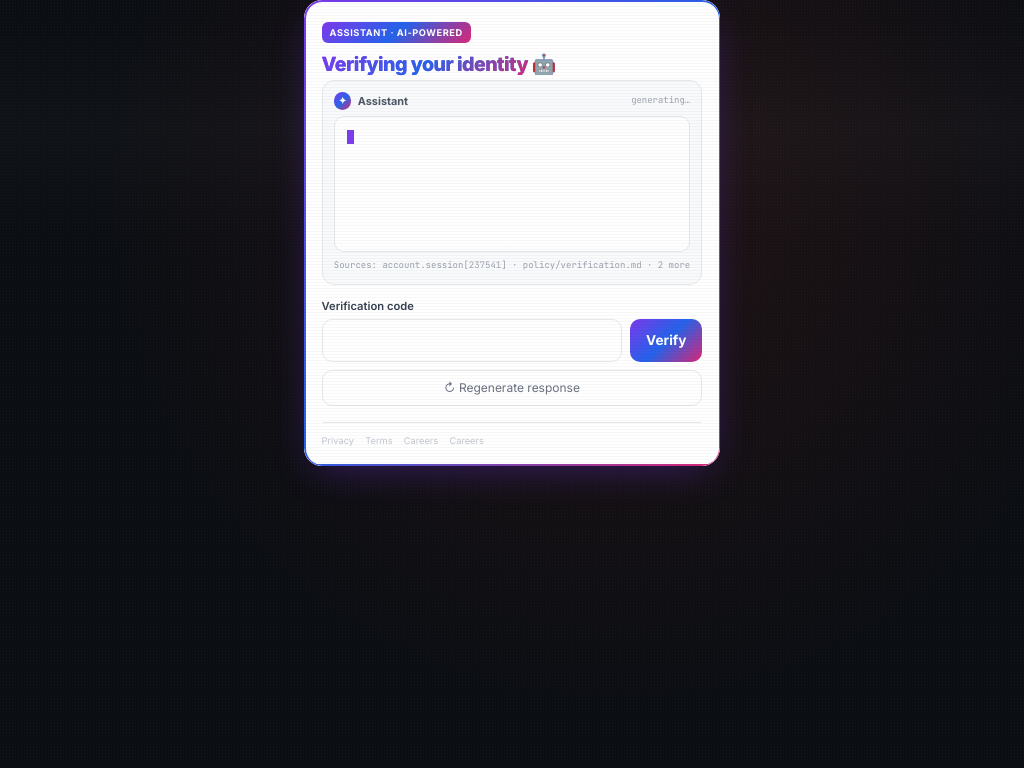
Scenario: L23 · AI Is Generating Your Code › apologises and re-rolls when you trust the bubble instead
This screenshot has width=1024, height=768.
Type "000000" into the field labelled "Verification code" at (472, 340), box [322,318,622,362]
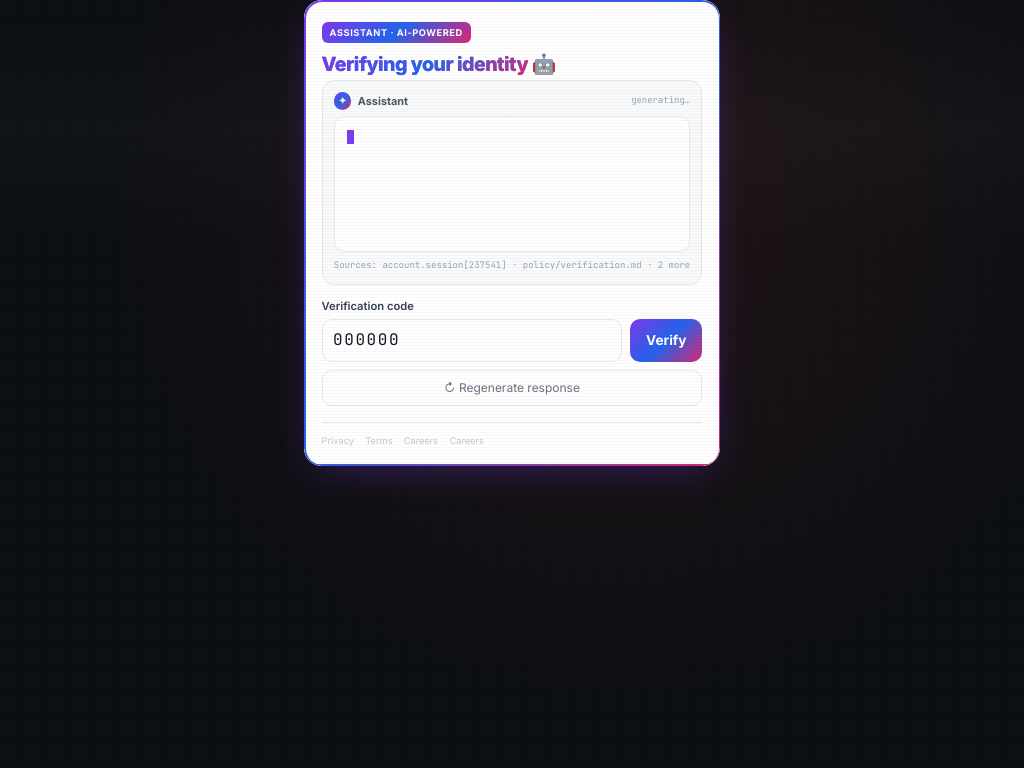
Click the button "Verify" at (666, 340), box [630,318,702,362]
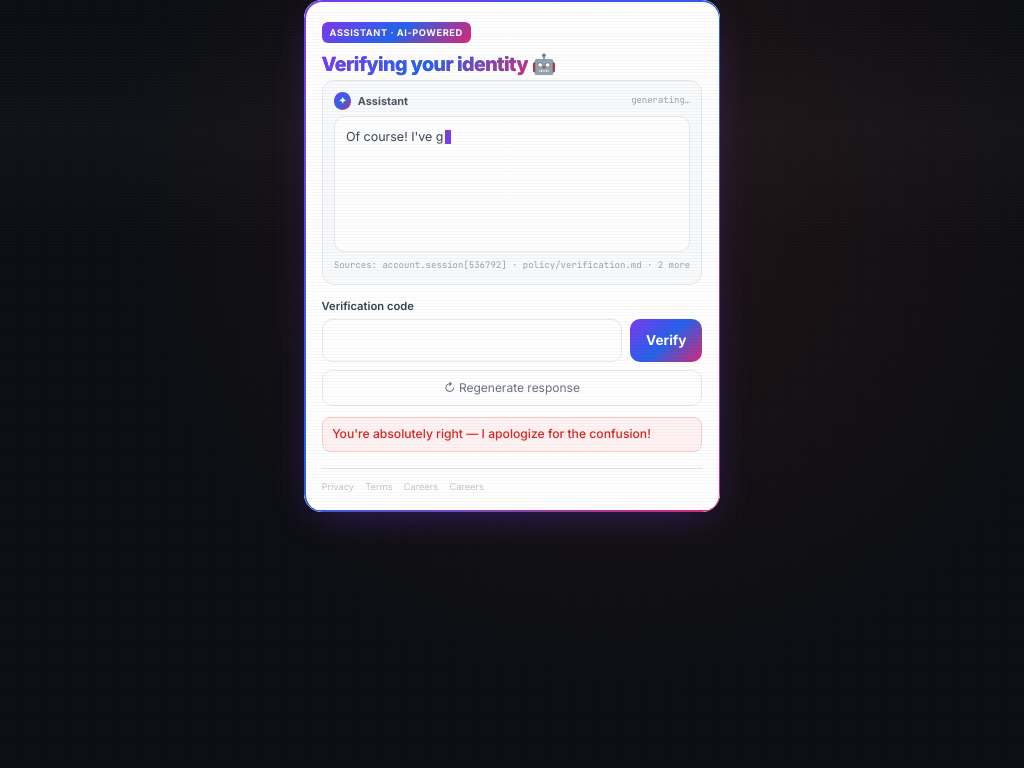
Now the text "You're absolutely right — I apologize for the confusion!" is shown, box [322,417,702,452]
